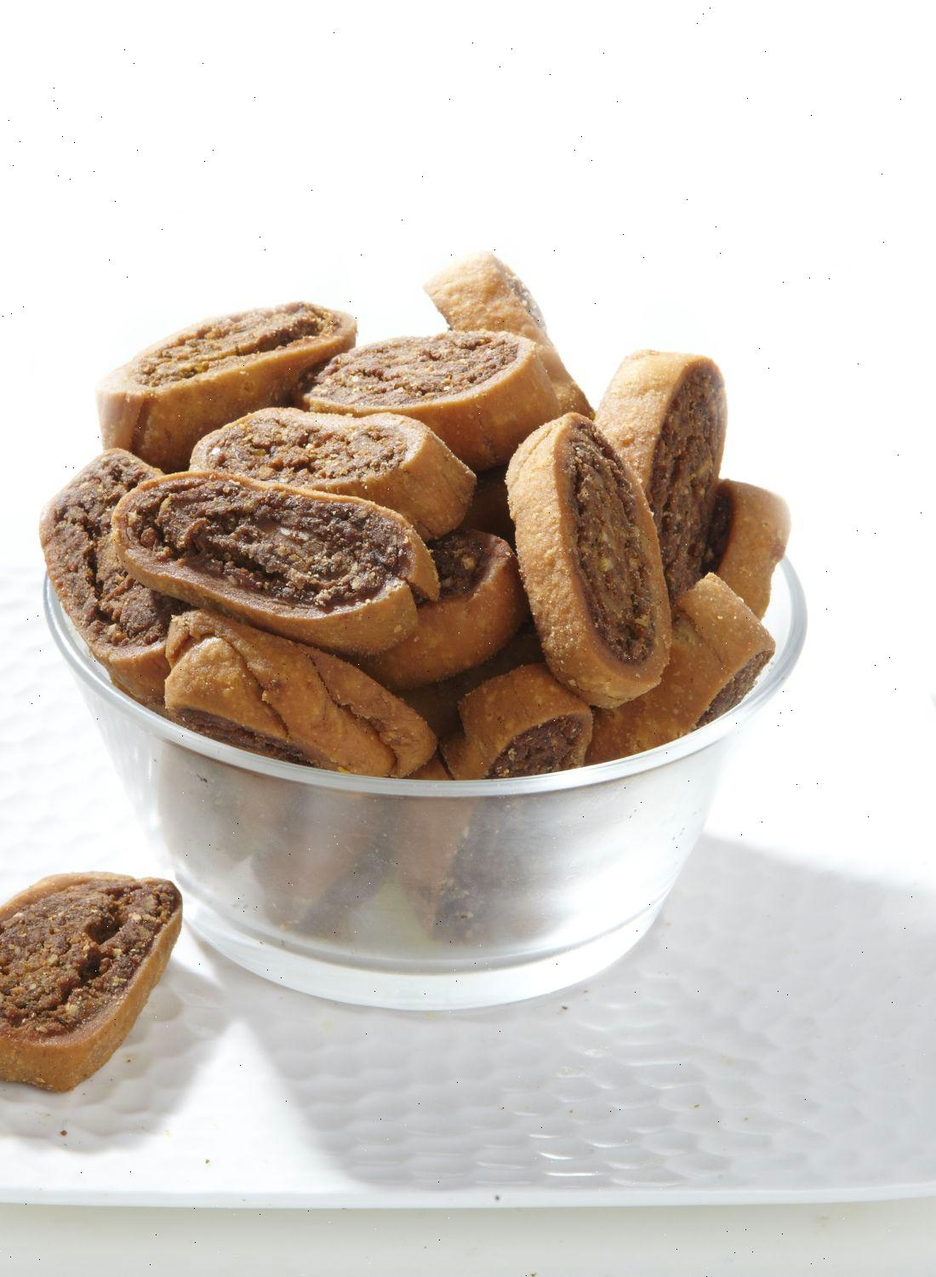bhakarwadi: (47, 264, 796, 780)
